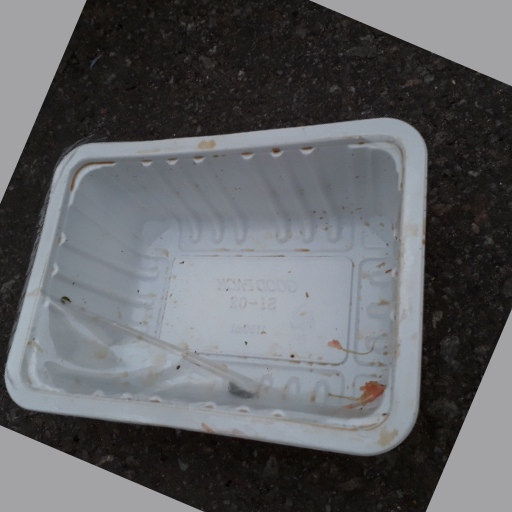Plastic_4: (6, 117, 430, 457)
